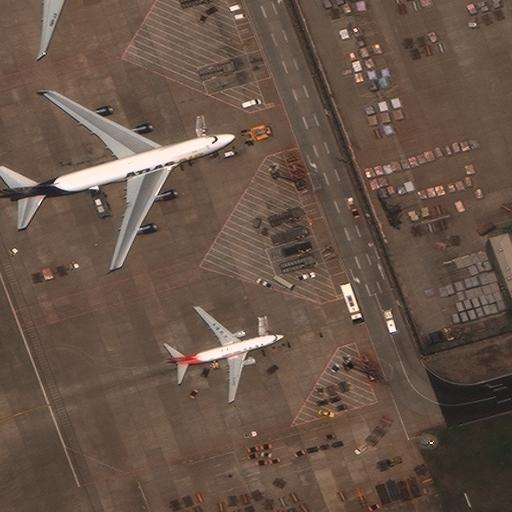Large Civil Transport: (0, 89, 236, 268), (0, 0, 90, 54)
Medium Civil Transport: (164, 306, 284, 400)
